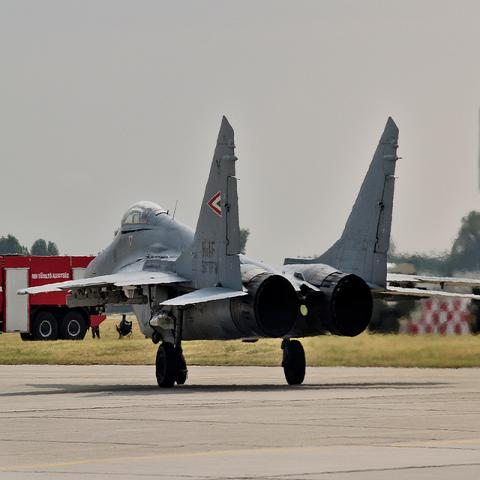truck: (0, 254, 107, 339)
